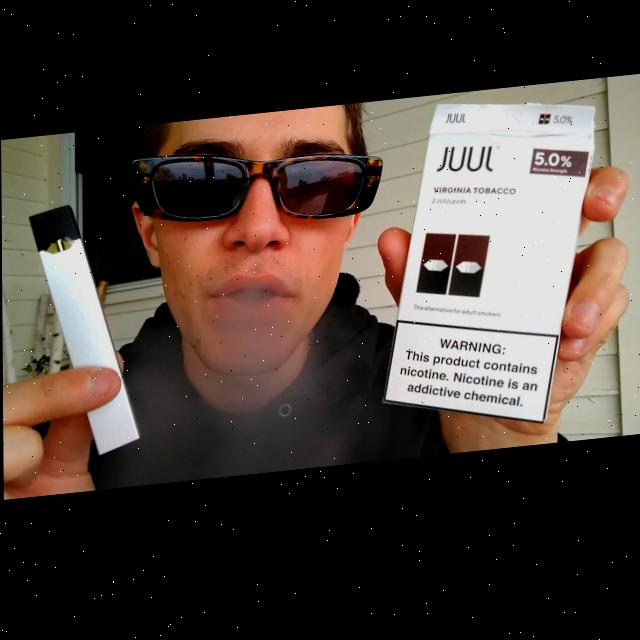vape: (28, 200, 140, 464)
